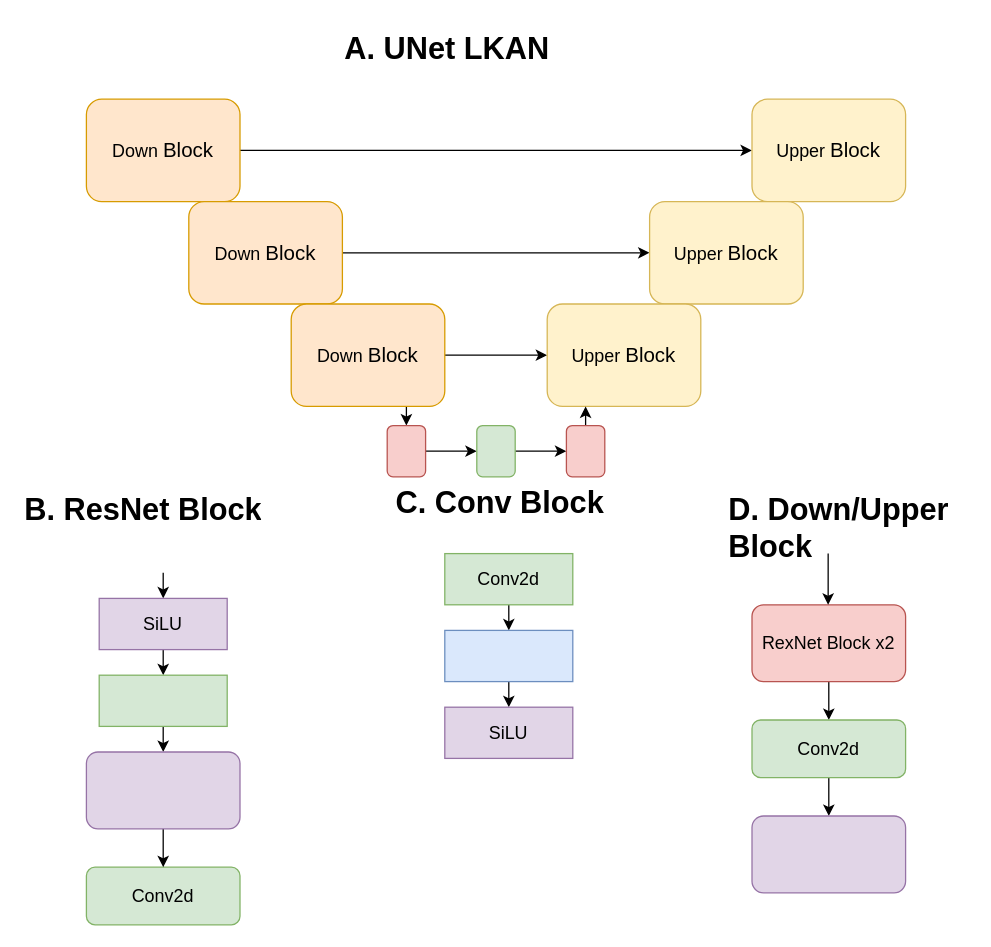
This 991x947 diagram has some shape labels left out. Here are the shapes that lost their labels. From the top down, the box of each, then its label:
(444, 629, 573, 682): GroupNorm
(98, 674, 227, 726): KAN Linear
(85, 751, 240, 829): Conv Block x2
(751, 815, 906, 893): Conv Block
